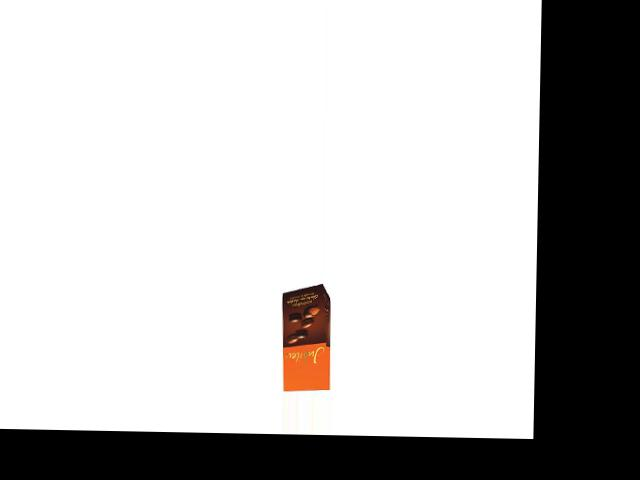chocolate: (274, 284, 334, 391)
